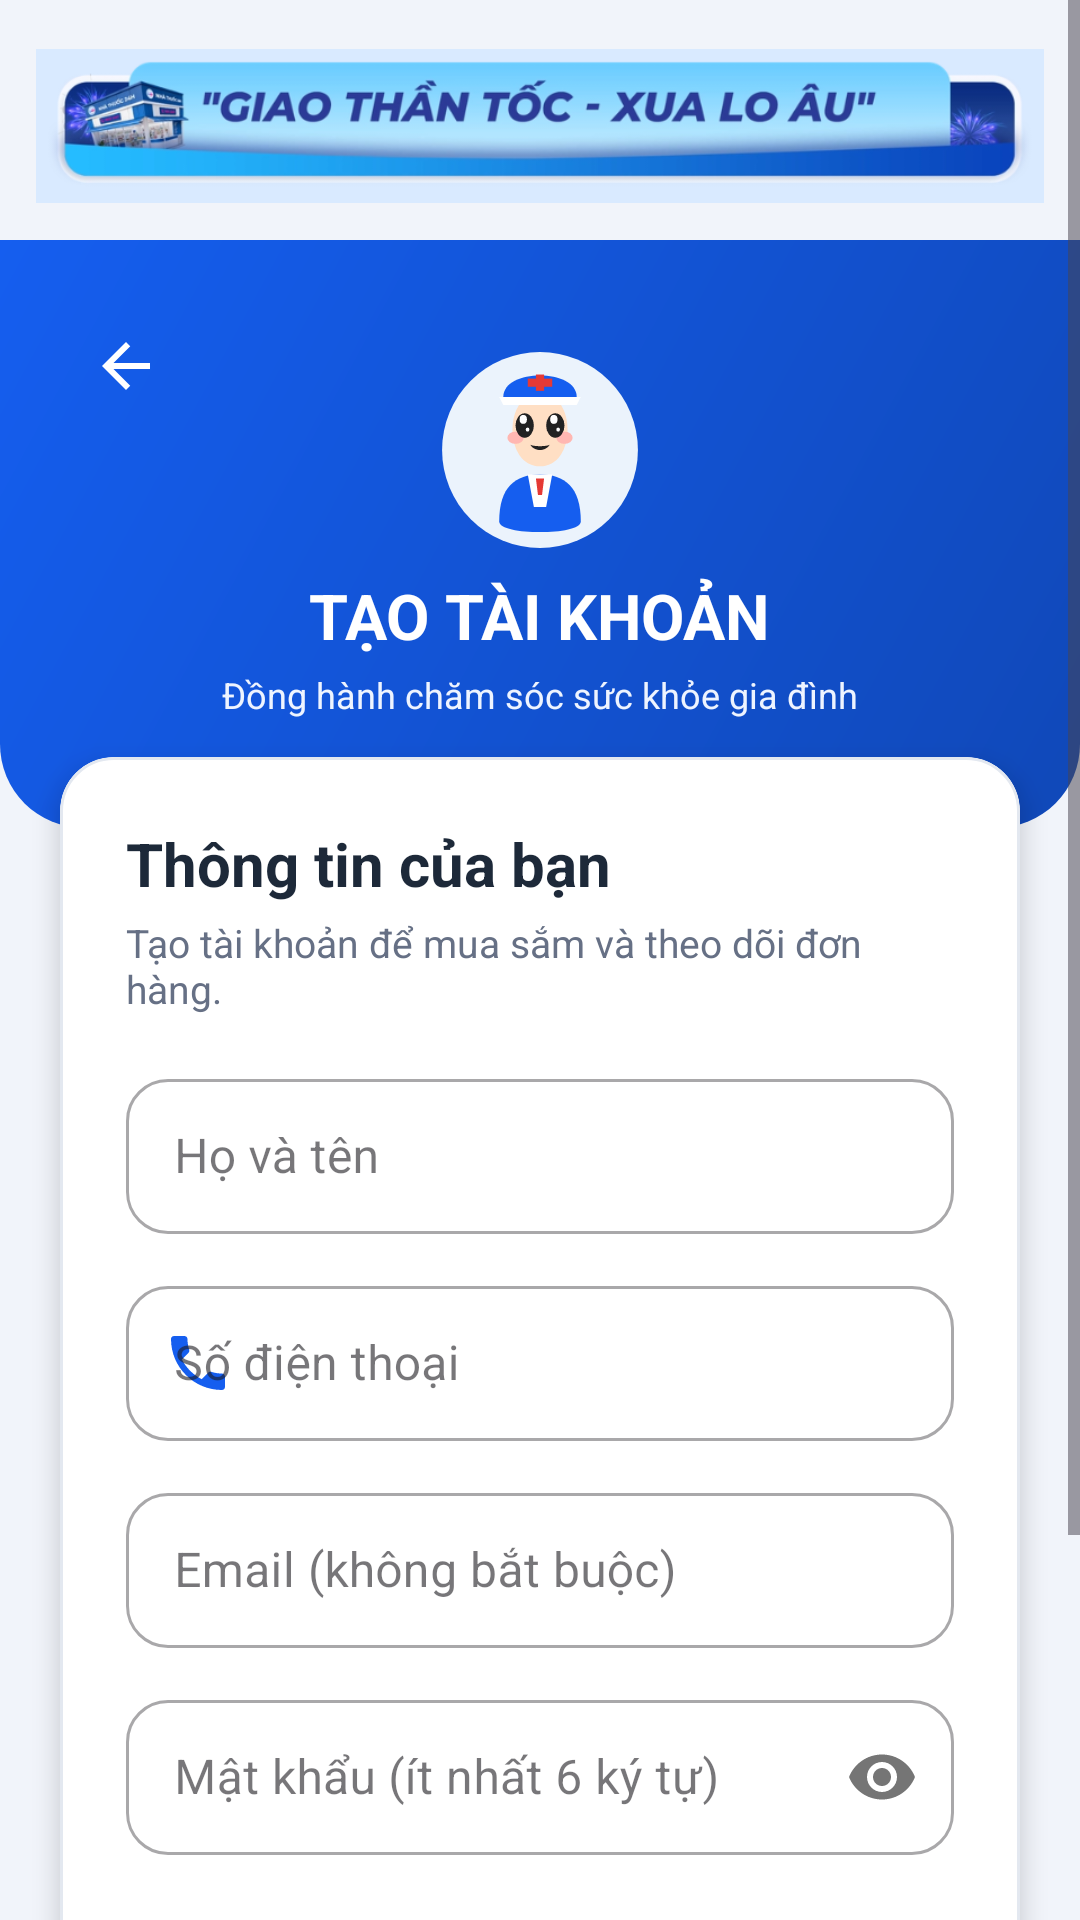

Icons on this 1080px x 1920px Android screen, each with the point to tap as point (x, y):
Biểu tượng nhà thuốc: point (540, 450)
Quay lại: point (126, 366)
